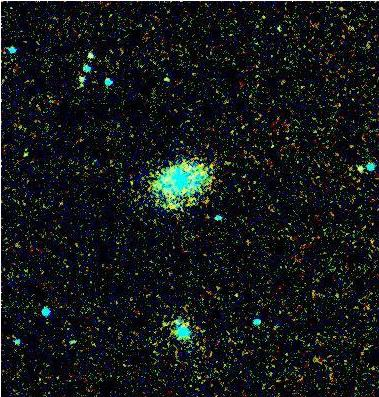star: (145, 69, 175, 99)
